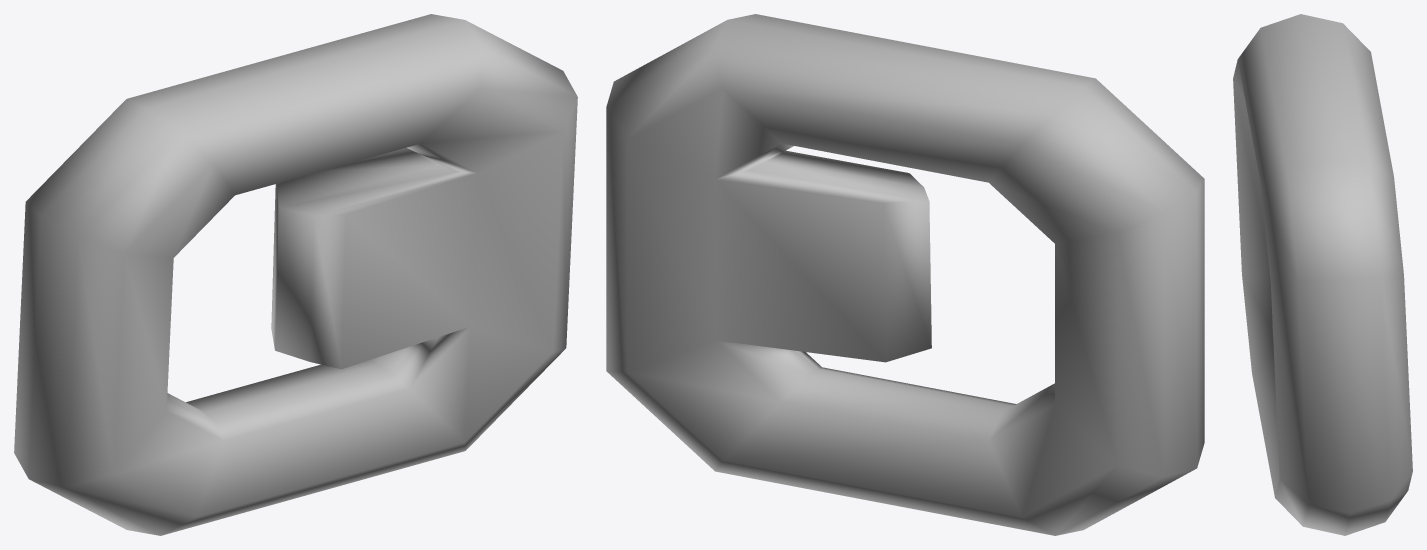
Rendered from beltbuckle.fbx.
3 views of the same model, side by side, from view 1: azimuth 30°, elevation 25°; view 2: azimuth 150°, elevation 25°; view 3: azimuth 270°, elevation 25° (orthographic). The views are drawn at different scales.
Visible parts, largest first — view 1: polySurface26; view 2: polySurface26; view 3: polySurface26.
Part boxes in pixels (x1,y1,x2,y2): polySurface26: (14,14,577,535); polySurface26: (606,14,1204,535); polySurface26: (1233,14,1412,535).
Size of the model in its own units: 5.18 by 3.84 by 1.64.
